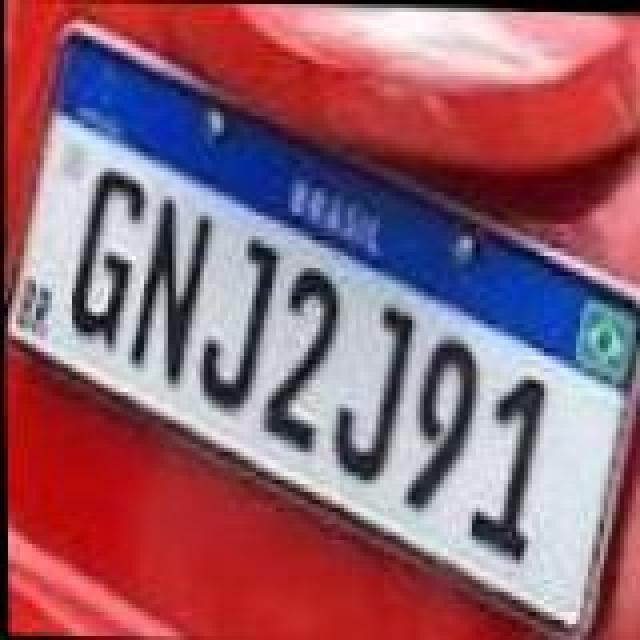1: (462, 370, 554, 562)
2: (256, 264, 344, 456)
9: (394, 334, 482, 514)
G: (64, 166, 152, 350)
J: (194, 230, 286, 410), (324, 298, 416, 478)
N: (126, 200, 218, 392)
